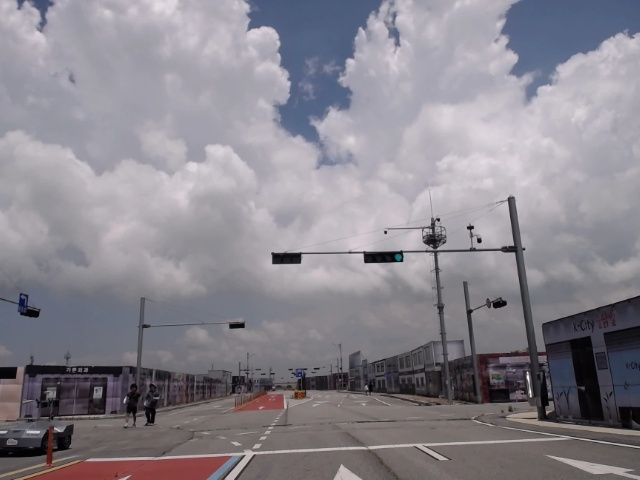straight_green_4: (364, 252, 406, 261)
